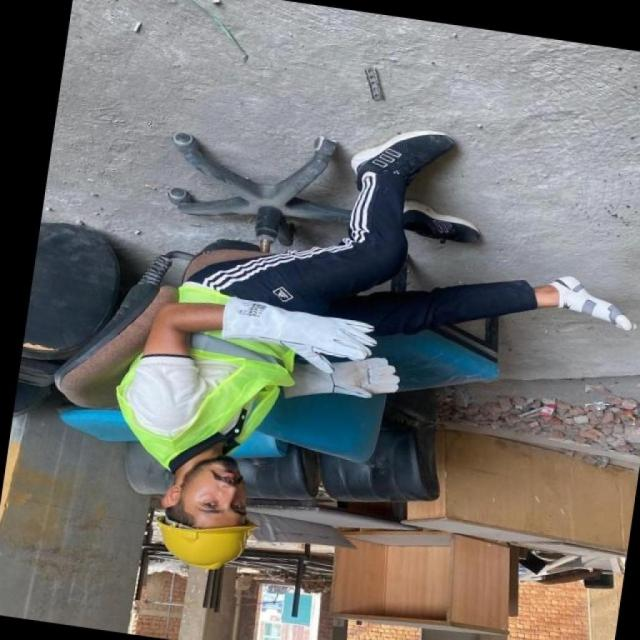Gloves-Detection: (212, 298, 368, 362), (293, 367, 401, 402)
